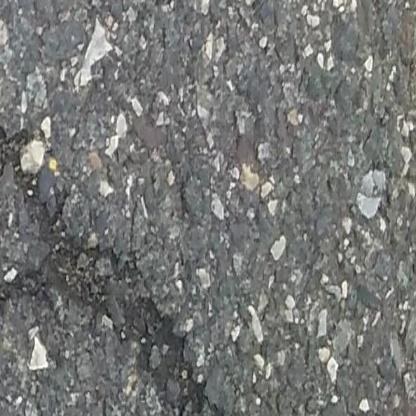Cracks: (0, 114, 244, 416)
